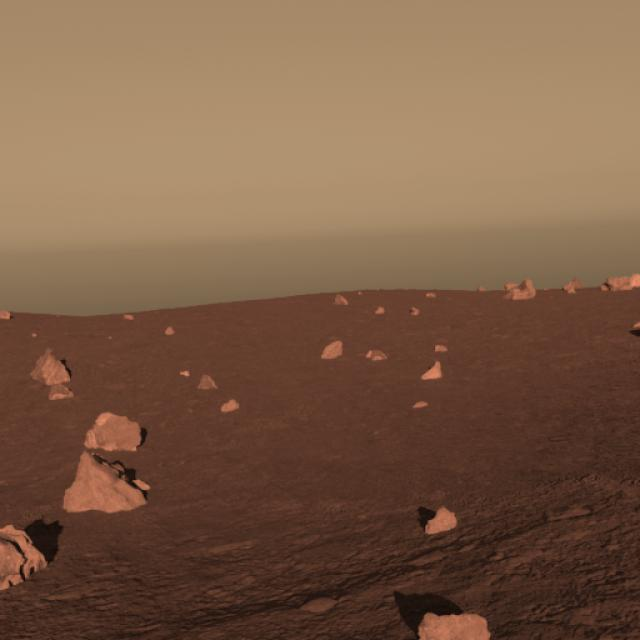rock: (60, 451, 148, 522), (0, 512, 52, 592), (77, 404, 146, 454)
